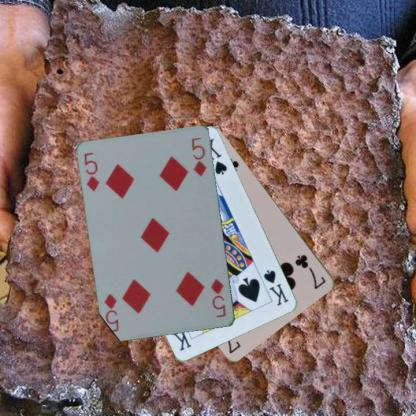5d: (208, 276, 228, 319), (82, 150, 101, 193)
7c: (292, 251, 328, 291)
Ks: (261, 267, 290, 307)
